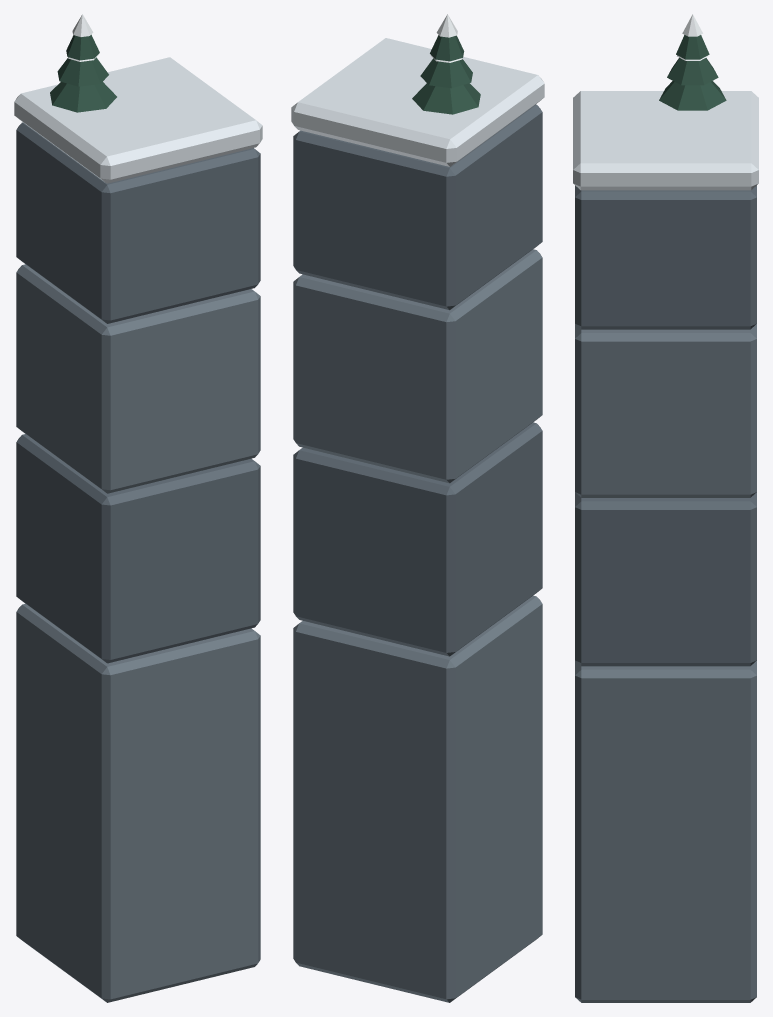
The model's file is column-rime-4b.glb.
3 views of the same model, side by side, from view 1: azimuth 30°, elevation 25°; view 2: azimuth 150°, elevation 25°; view 3: azimuth 270°, elevation 25° (orthographic). The views are drawn at different scales.
Parts seen in each view (by area): view 1: column-rime-4b; view 2: column-rime-4b; view 3: column-rime-4b.
Boxes of the visible parts, box(x1,y1,x2,y2) form: column-rime-4b: box(14, 14, 262, 1002); column-rime-4b: box(291, 14, 544, 1002); column-rime-4b: box(573, 14, 758, 1002).
Bounding box in the file's own units: 1 × 5.54 × 1.
